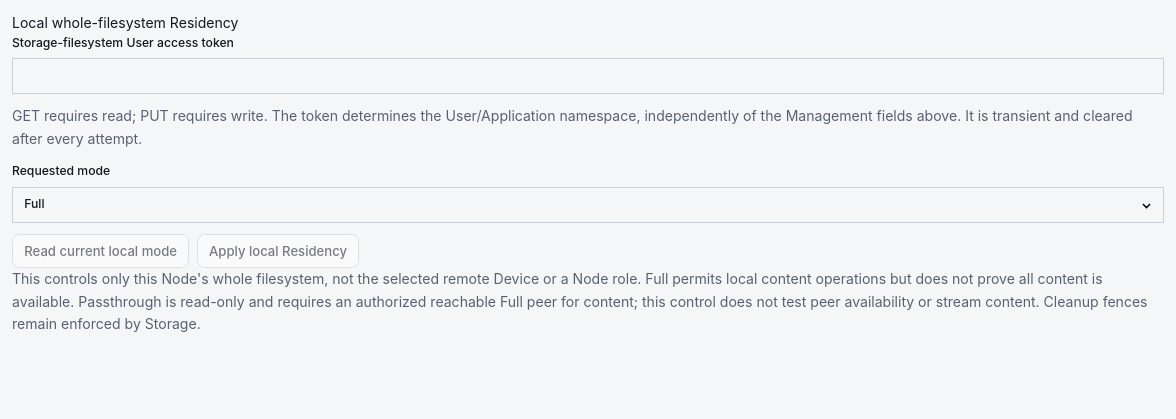
drives full Apply through pending, cleanup error and acknowledgement
Select "Full" in the dropdown labelled "Requested mode" at (588, 205), box [12,187,1164,223]
Type "current-filesystem-token" into the password field labelled "Storage-filesystem User access token" at (588, 76), box [12,58,1164,94]
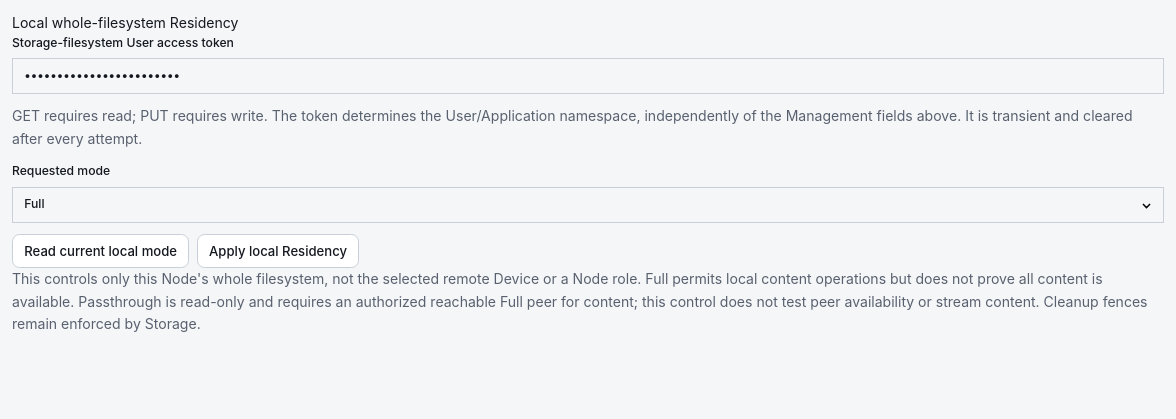
Click the button "Apply local Residency" at (278, 251), box [197,234,359,268]
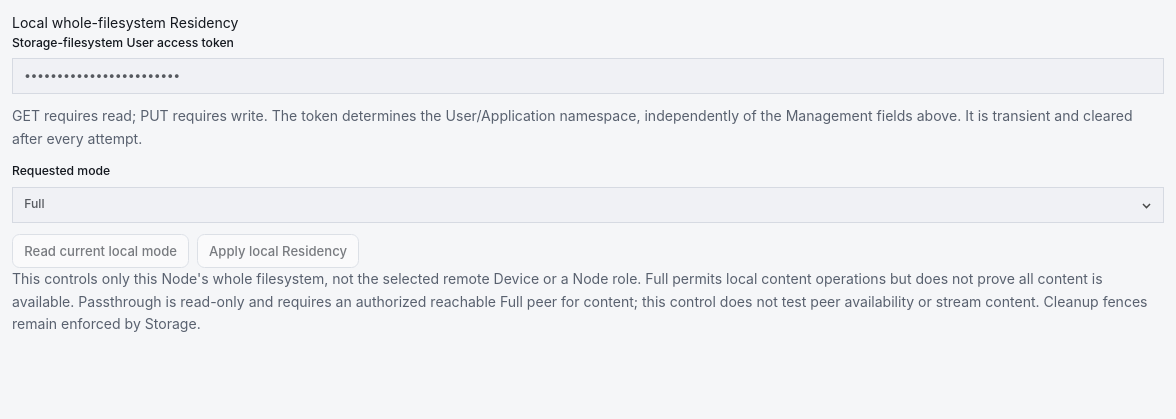
Check: the element that starts with "Local whole-filesystem Residency" is disabled, box [12,12,1164,268]
Click the button "Apply local Residency" at (278, 251), box [197,234,359,268]
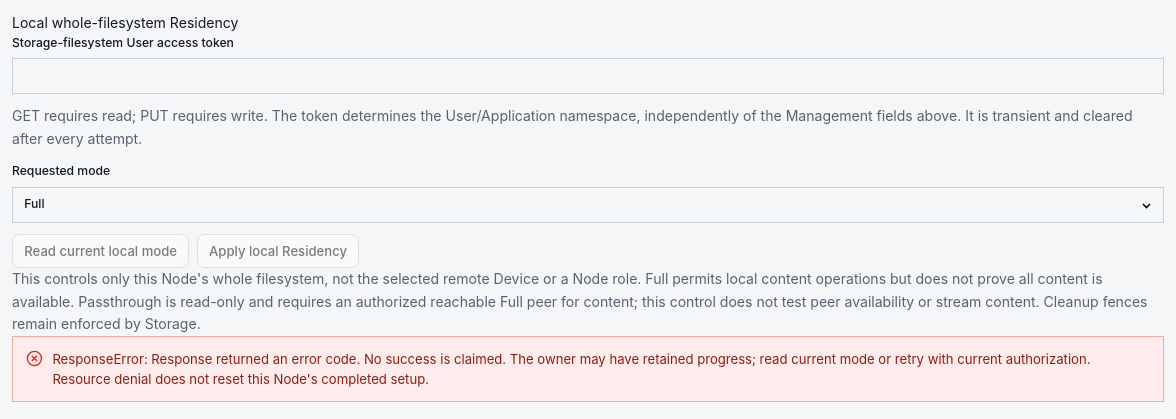
Check: the message shows "No success is claimed", box [52,351,1090,387]
Check: the text "Resource denial does not reset this Node's completed setup." is shown, box [52,351,1090,387]
Check: the element that starts with "Local whole-filesystem Residency" is enabled, box [12,12,1164,268]
Type "fresh-filesystem-token" into the password field labelled "Storage-filesystem User access token" at (588, 76), box [12,58,1164,94]
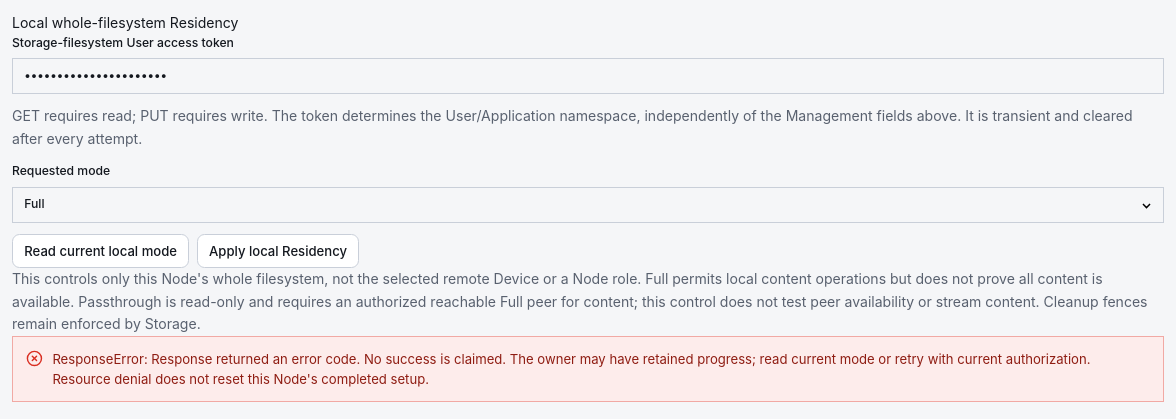
Click the button "Apply local Residency" at (278, 251), box [197,234,359,268]
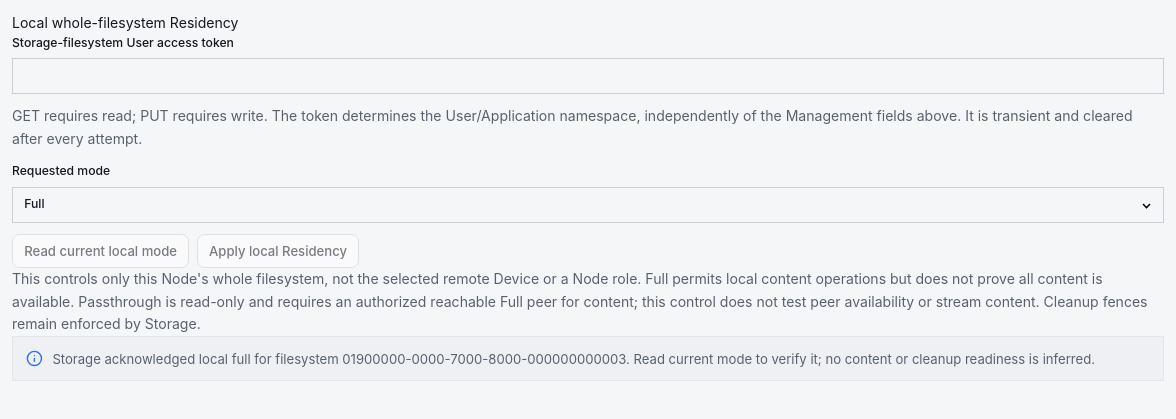
Check: the message shows "Storage acknowledged local full", box [52,351,1095,367]
Check: the text "no content or cleanup readiness is inferred." is shown, box [52,351,1095,367]
Check: the password field labelled "Storage-filesystem User access token" is empty, box [12,58,1164,94]
